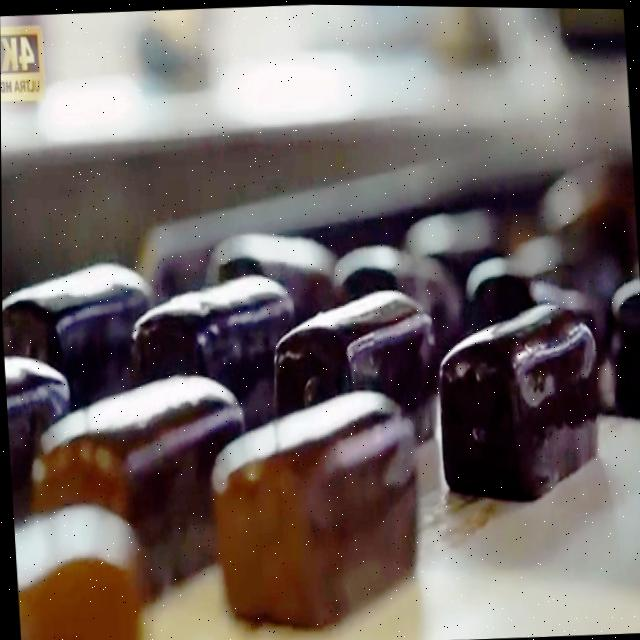Choco: (204, 378, 429, 633), (23, 362, 251, 532), (432, 292, 607, 505), (128, 265, 297, 416), (267, 278, 440, 422), (1, 252, 156, 401), (3, 343, 73, 517)
